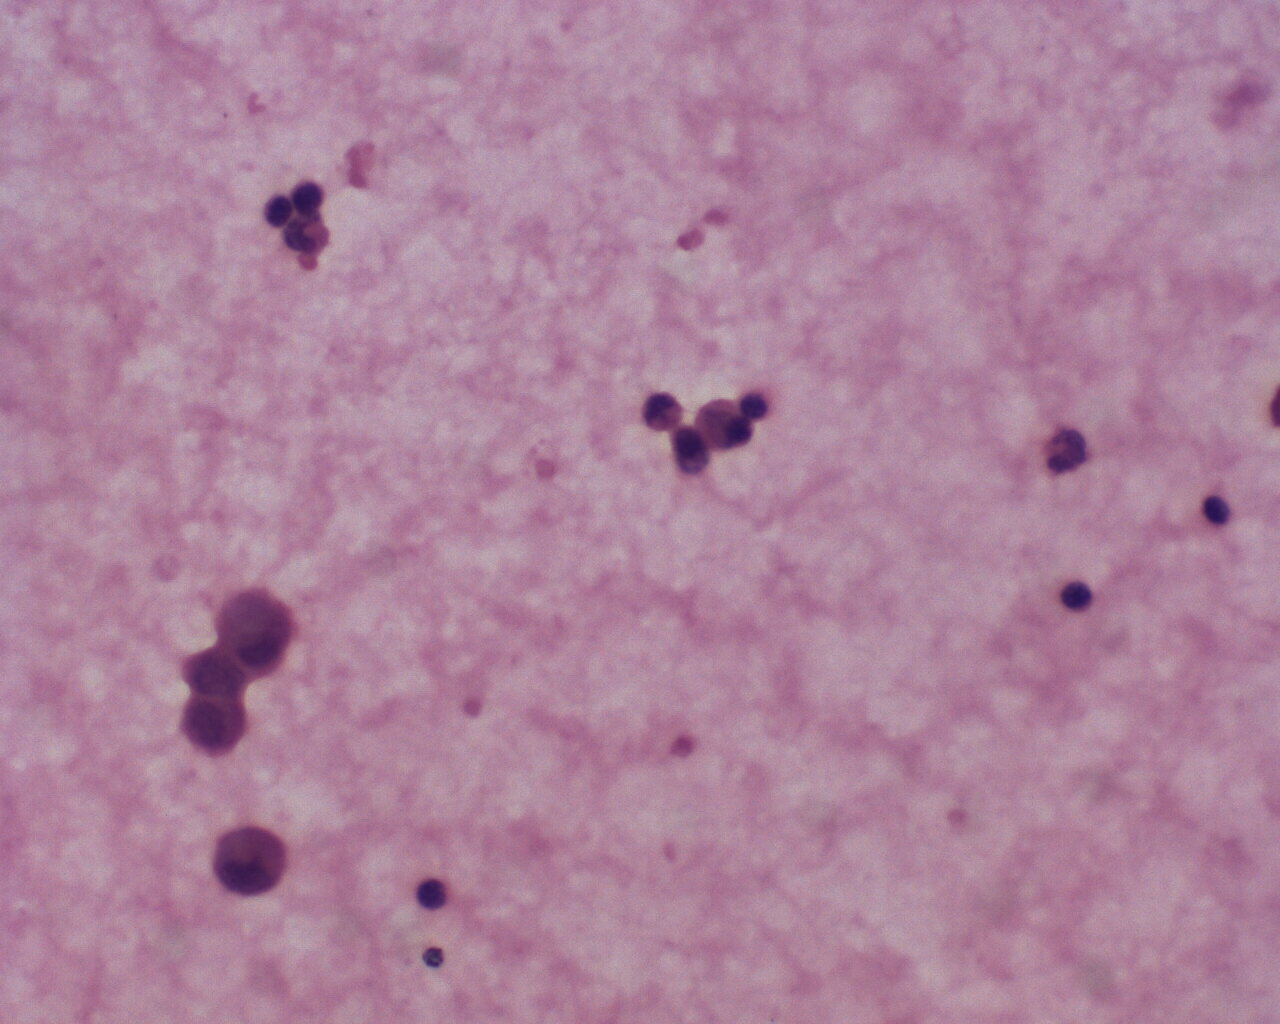ab: (173, 689, 249, 759), (180, 642, 255, 698)
lymph: (1057, 575, 1095, 616), (258, 192, 298, 230), (411, 875, 448, 913)
meso: (209, 822, 293, 898)
